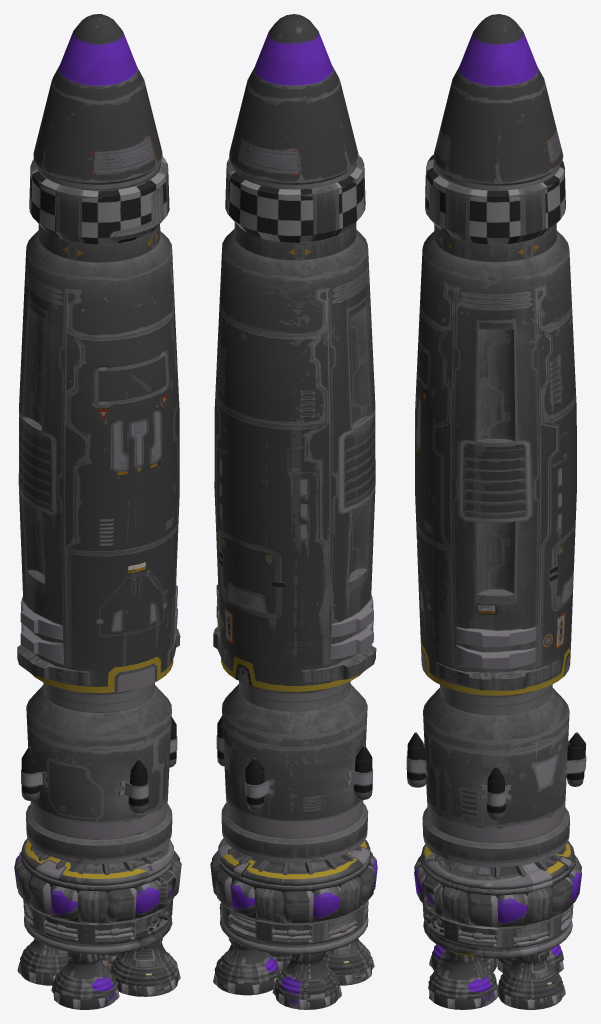
The model's file is rocket.glb.
3 renders of one model, left to right at view 1: azimuth 30°, elevation 25°; view 2: azimuth 150°, elevation 25°; view 3: azimuth 270°, elevation 25°, orthographic.
Parts seen in each view (by area): view 1: S_RocketChunk_D.mo_0; view 2: S_RocketChunk_D.mo_0; view 3: S_RocketChunk_D.mo_0.
Part boxes in pixels (<box>): S_RocketChunk_D.mo_0: <box>14,14,181,1009</box>; S_RocketChunk_D.mo_0: <box>210,14,377,1009</box>; S_RocketChunk_D.mo_0: <box>406,14,586,1009</box>.
Bounding box in the file's own units: 39.19 × 233 × 39.47.
2 materials, 2 textured.
